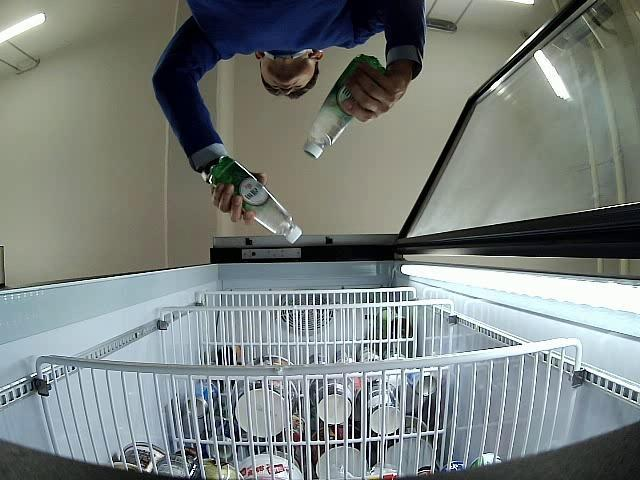18_trevi: (206, 155, 302, 244), (304, 54, 386, 158)
